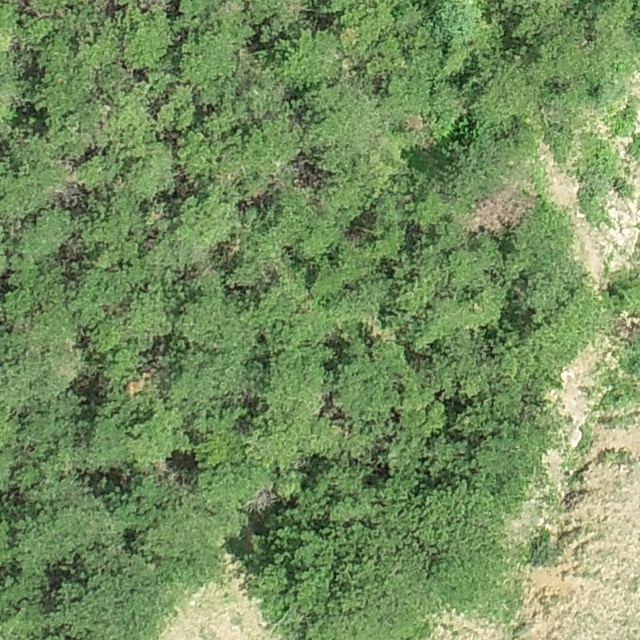unhealthy: (457, 189, 536, 233), (51, 181, 85, 209), (247, 487, 275, 512)
